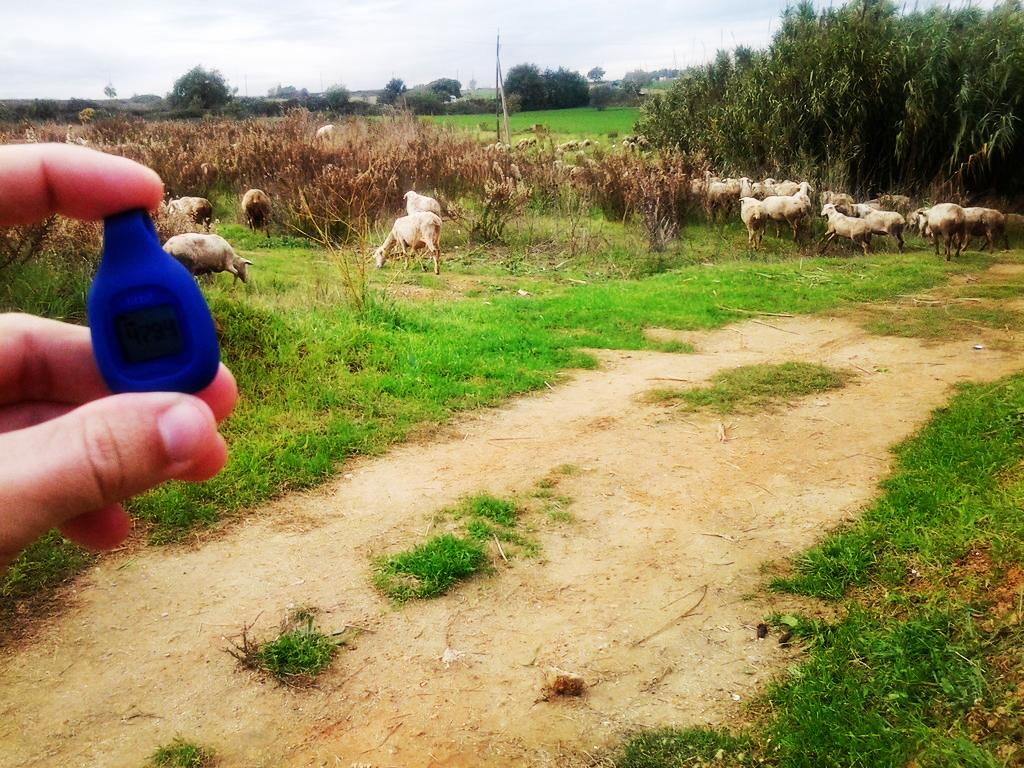Sheep: (164, 232, 253, 288), (372, 212, 444, 274), (912, 200, 986, 255), (814, 195, 879, 256), (722, 190, 772, 249), (765, 194, 810, 251), (386, 179, 450, 210), (238, 188, 269, 240), (167, 195, 209, 224)
